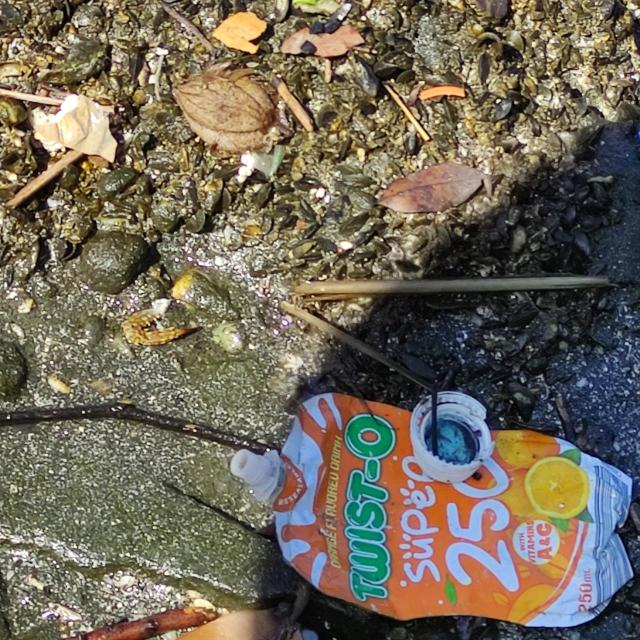plastic_waste: (233, 386, 635, 627), (411, 392, 497, 486)
